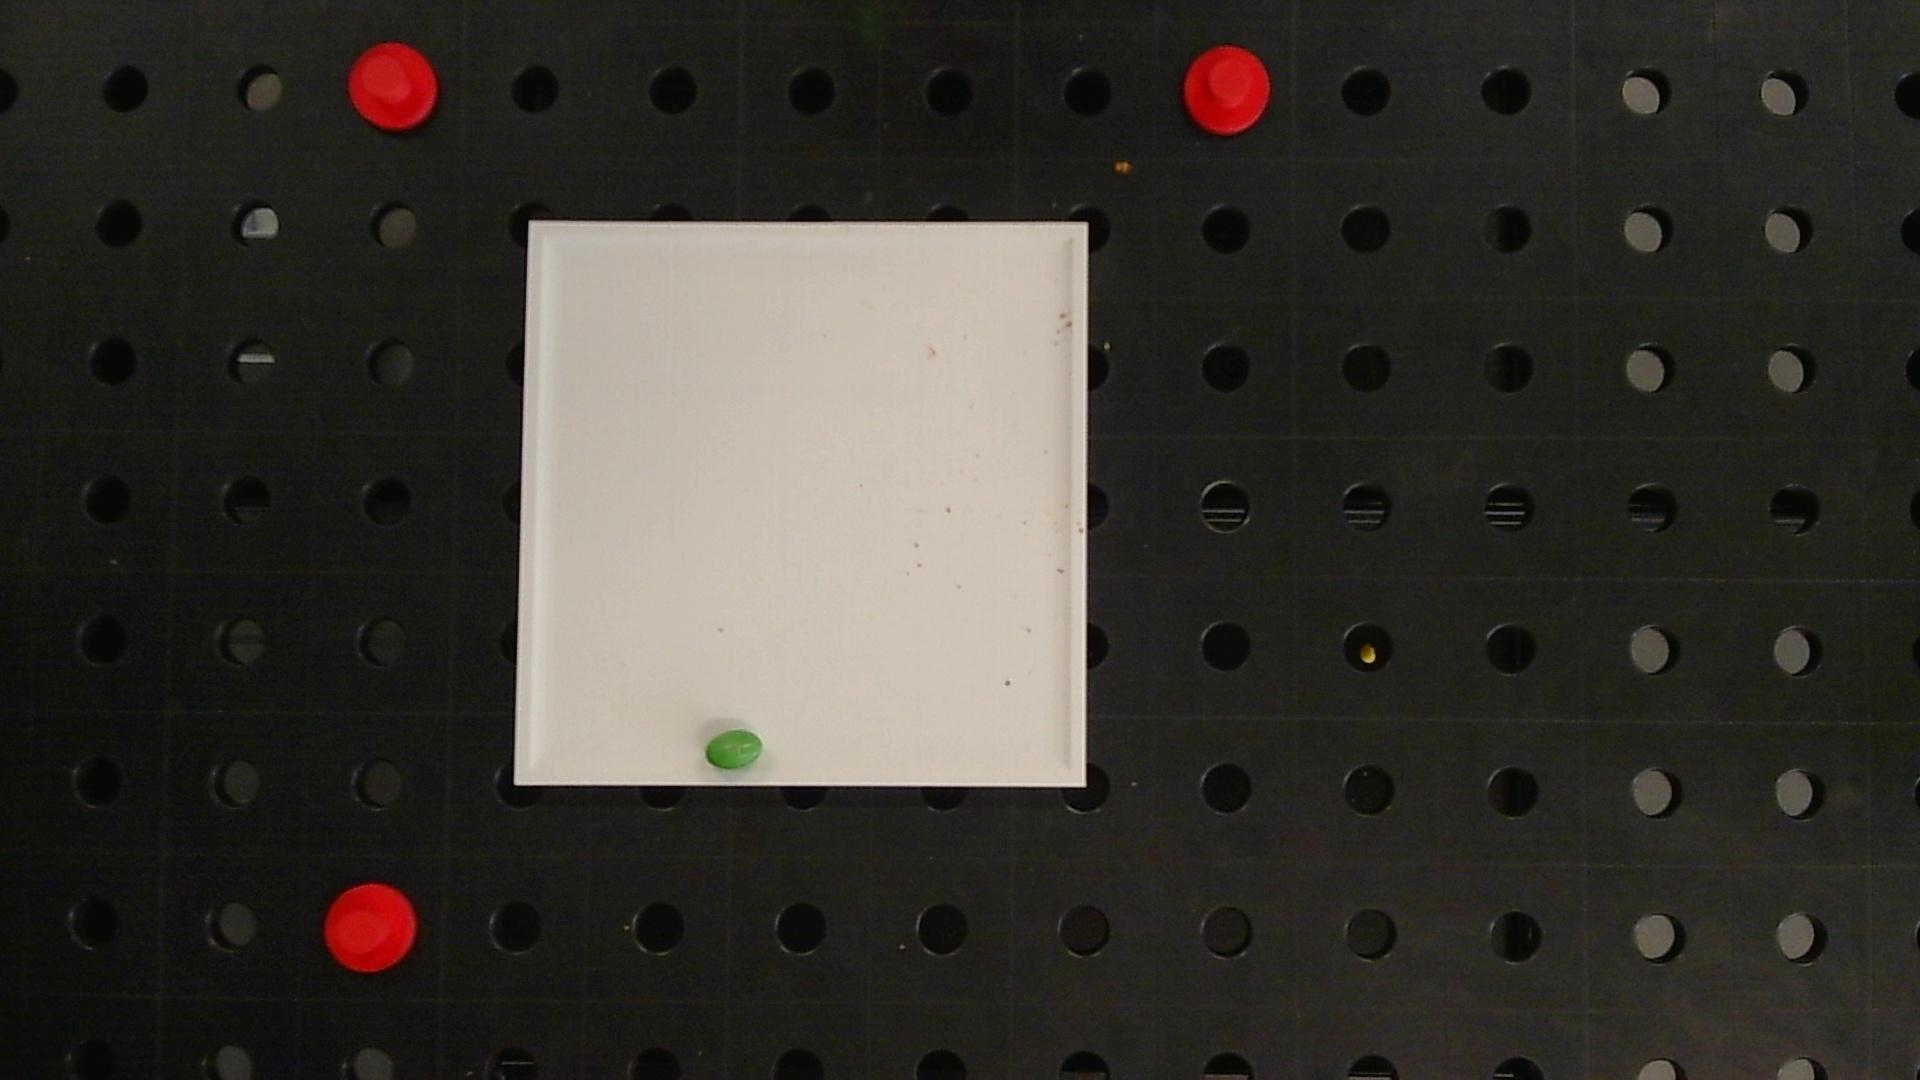green: (704, 729, 764, 770)
